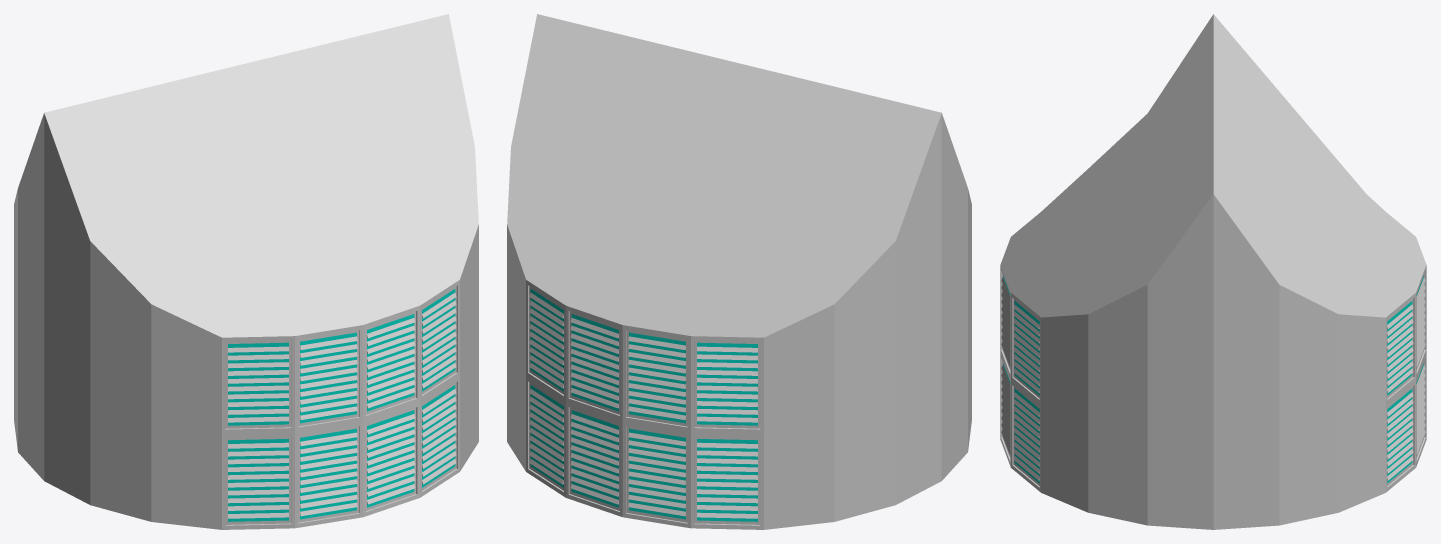
The model's file is Metal thing.fbx.
The picture shows the model from 3 angles, left to right: view 1: azimuth 30°, elevation 25°; view 2: azimuth 150°, elevation 25°; view 3: azimuth 270°, elevation 25°; orthographic projection. The views are drawn at different scales.
Parts seen in each view (by area): view 1: Element; view 2: Element; view 3: Element.
Boxes of the visible parts, x1,y1,x2,y2 form: Element: [14, 14, 478, 529]; Element: [507, 14, 971, 529]; Element: [1000, 14, 1426, 529].
Size of the model in its own units: 1000 by 870 by 1000.
